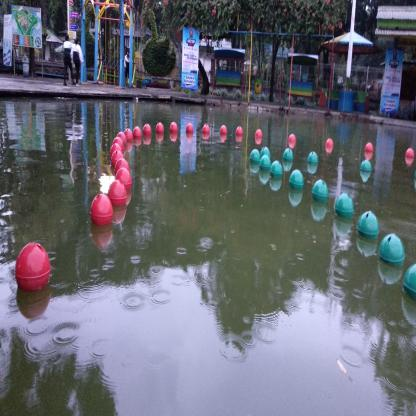green_buoy: (379, 234, 405, 266), (358, 212, 378, 240), (403, 261, 416, 301), (335, 193, 354, 220), (312, 179, 328, 204), (289, 169, 304, 192), (270, 162, 283, 180), (360, 160, 372, 176), (260, 155, 270, 172), (307, 152, 318, 167), (250, 150, 260, 166), (283, 148, 293, 163), (260, 146, 270, 160)
red_buoy: (15, 243, 50, 292), (91, 195, 113, 226), (108, 181, 126, 209), (116, 168, 132, 194), (116, 159, 130, 177), (112, 151, 124, 168), (113, 137, 124, 154), (111, 144, 122, 160), (117, 132, 126, 149), (133, 126, 142, 141), (124, 128, 133, 143), (170, 121, 178, 136), (156, 122, 164, 136), (186, 122, 194, 136), (143, 124, 152, 136), (365, 142, 374, 154), (202, 124, 210, 137), (406, 148, 414, 160), (220, 125, 227, 138), (326, 138, 334, 149), (288, 134, 296, 144), (236, 126, 243, 137), (255, 129, 262, 138)
